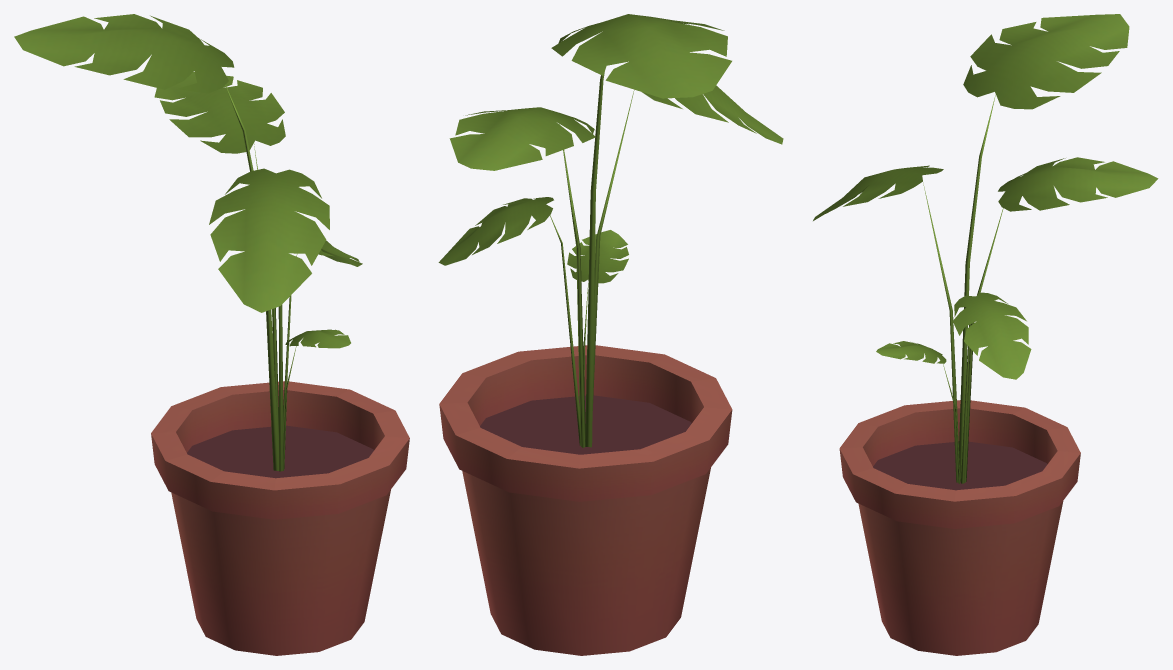
File: SM_Plant_02.fbx
The picture shows the model from 3 angles, left to right: view 1: azimuth 30°, elevation 25°; view 2: azimuth 150°, elevation 25°; view 3: azimuth 270°, elevation 25°; orthographic projection. The views are drawn at different scales.
Visible parts, largest first — view 1: SM_Plant_02; view 2: SM_Plant_02; view 3: SM_Plant_02.
Boxes of the visible parts, bbox=[...] form: SM_Plant_02: bbox=[14, 14, 409, 655]; SM_Plant_02: bbox=[438, 14, 783, 655]; SM_Plant_02: bbox=[813, 14, 1158, 655].
Size of the model in its own units: 72.89 by 136 by 78.97.
